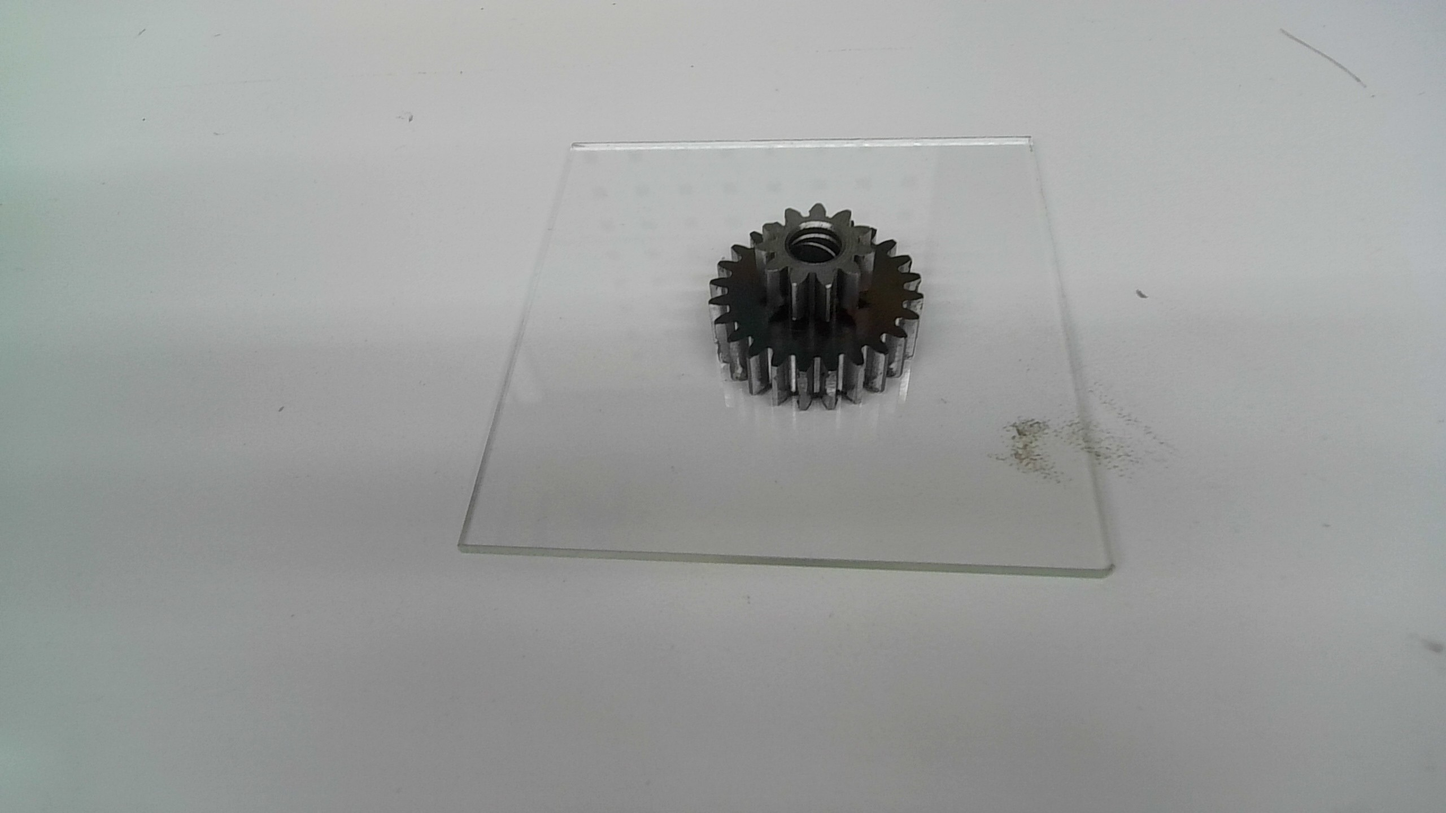gear: (705, 200, 925, 415)
